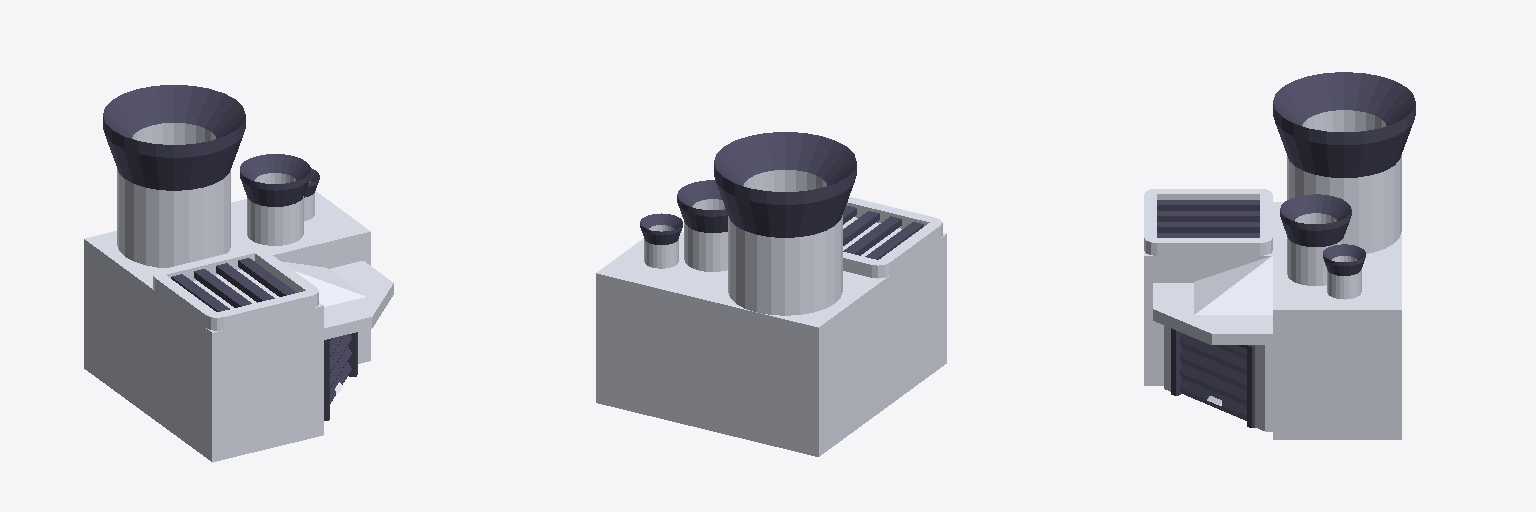
3 renders of one model, left to right at view 1: azimuth 30°, elevation 25°; view 2: azimuth 150°, elevation 25°; view 3: azimuth 270°, elevation 25°, orthographic.
Parts seen in each view (by area): view 1: mergedBlocks; view 2: mergedBlocks; view 3: mergedBlocks.
Part boxes in pixels (left/top/right/bottom): mergedBlocks: left=84, top=85, right=393, bottom=462; mergedBlocks: left=596, top=132, right=946, bottom=456; mergedBlocks: left=1144, top=72, right=1415, bottom=439.
Bounding box in the file's own units: 1.8 × 2 × 1.9.
1 materials, 1 textured.